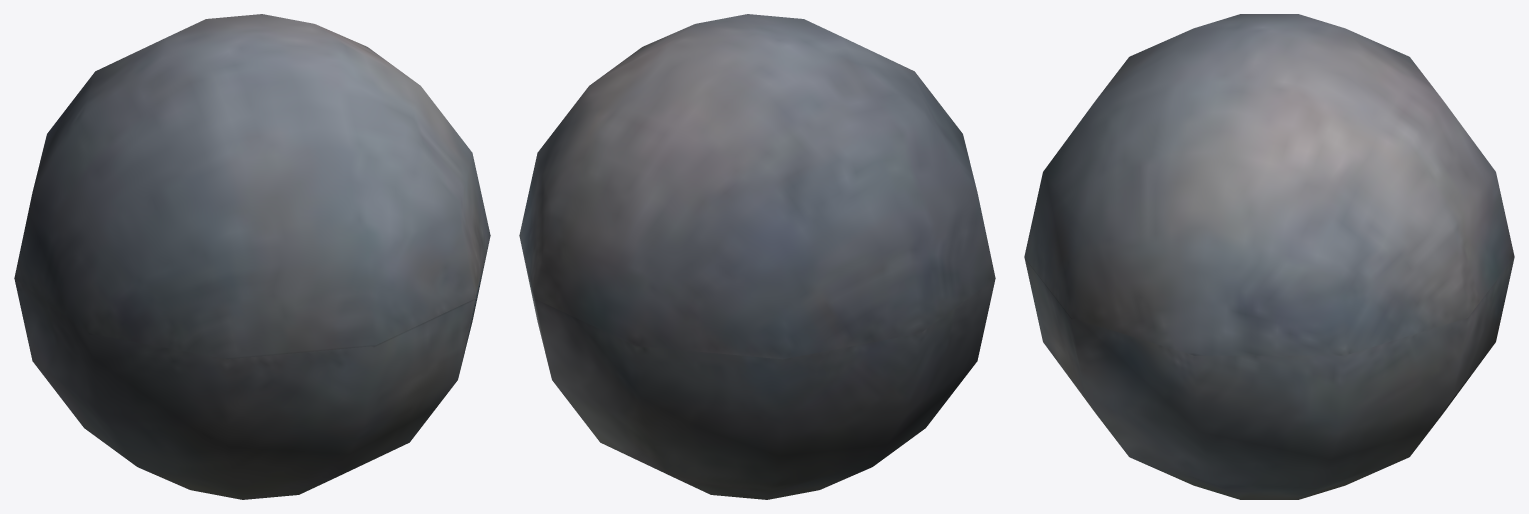
File: cannonball.glb
3 renders of one model, left to right at view 1: azimuth 30°, elevation 25°; view 2: azimuth 150°, elevation 25°; view 3: azimuth 270°, elevation 25°, orthographic.
Visible parts, largest first — view 1: Sphere.001; view 2: Sphere.001; view 3: Sphere.001.
Part boxes in pixels (x1=…): Sphere.001: x1=14, y1=14, x2=490, y2=499; Sphere.001: x1=519, y1=14, x2=995, y2=499; Sphere.001: x1=1024, y1=14, x2=1514, y2=499.
Bounding box in the file's own units: 2.16 × 2.27 × 2.27.
1 material, 1 textured.
